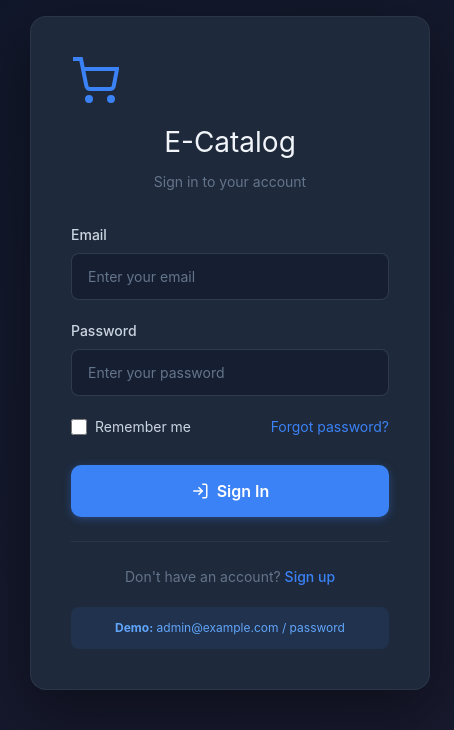
Test: Login Page - User Authentication › TC3: Login Form Submission › TC3.2: should disable submit button while loading
In the field with placeholder "Enter your email": (230, 276) [71, 253, 389, 300], type "admin@example.com"
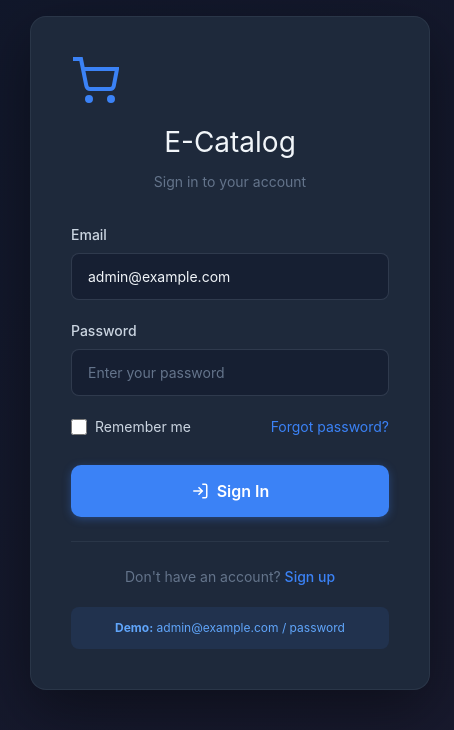
In the password field labelled "Password": (230, 372) [71, 349, 389, 396], type "password"
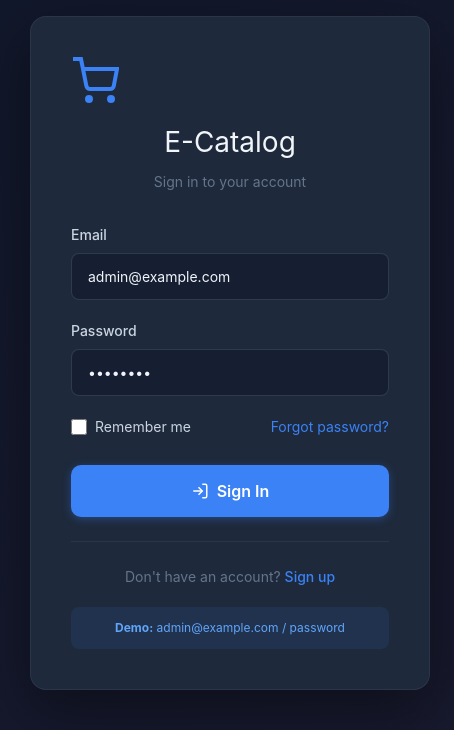
Click the button "Sign In": (230, 491) [71, 465, 389, 517]
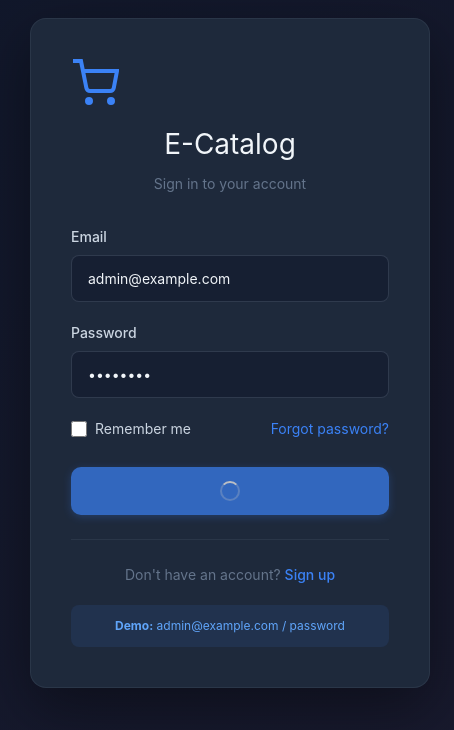
Expected: the button is disabled, [71, 467, 389, 515]
